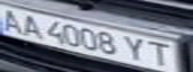0: (78, 26, 100, 52), (60, 23, 81, 48)
4: (42, 19, 66, 45)
8: (97, 29, 118, 56)
A: (0, 6, 27, 34), (18, 12, 45, 38)
T: (145, 38, 178, 69)
Y: (121, 34, 151, 63)
